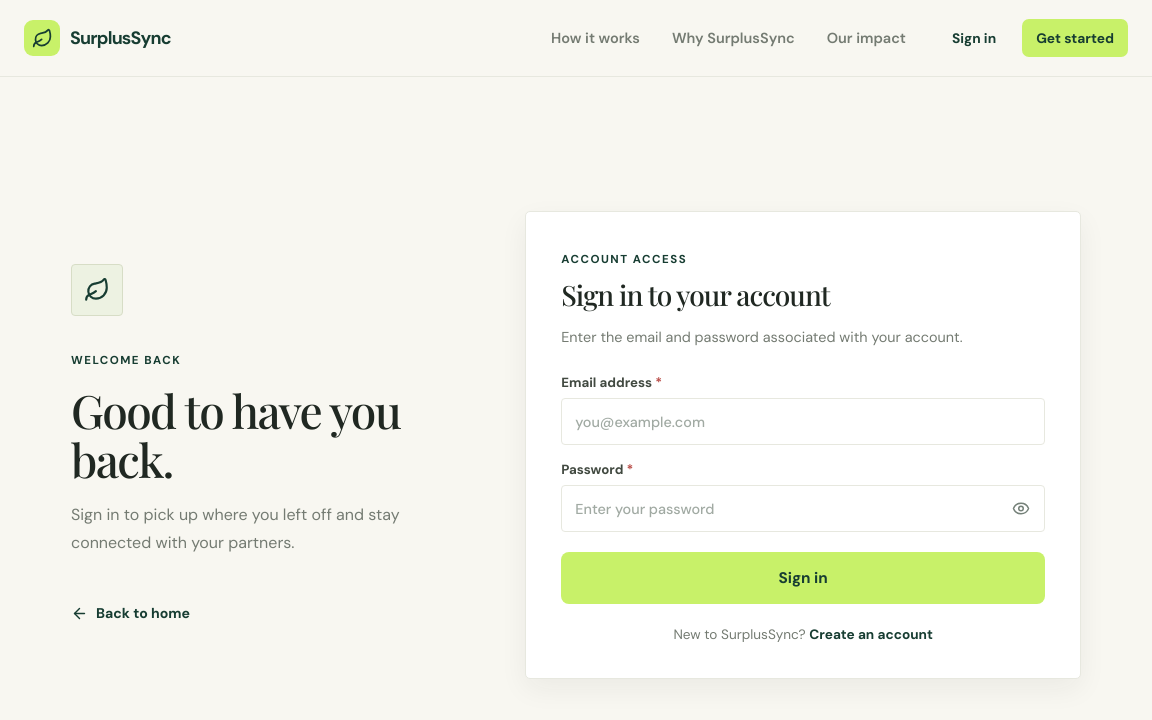
Test: authentication form › validates required fields before making a login request
What coordinates should you click on to do the following:
click the button "Sign in"
I would click on:
 (803, 578)
Its box is [561,552,1045,604].
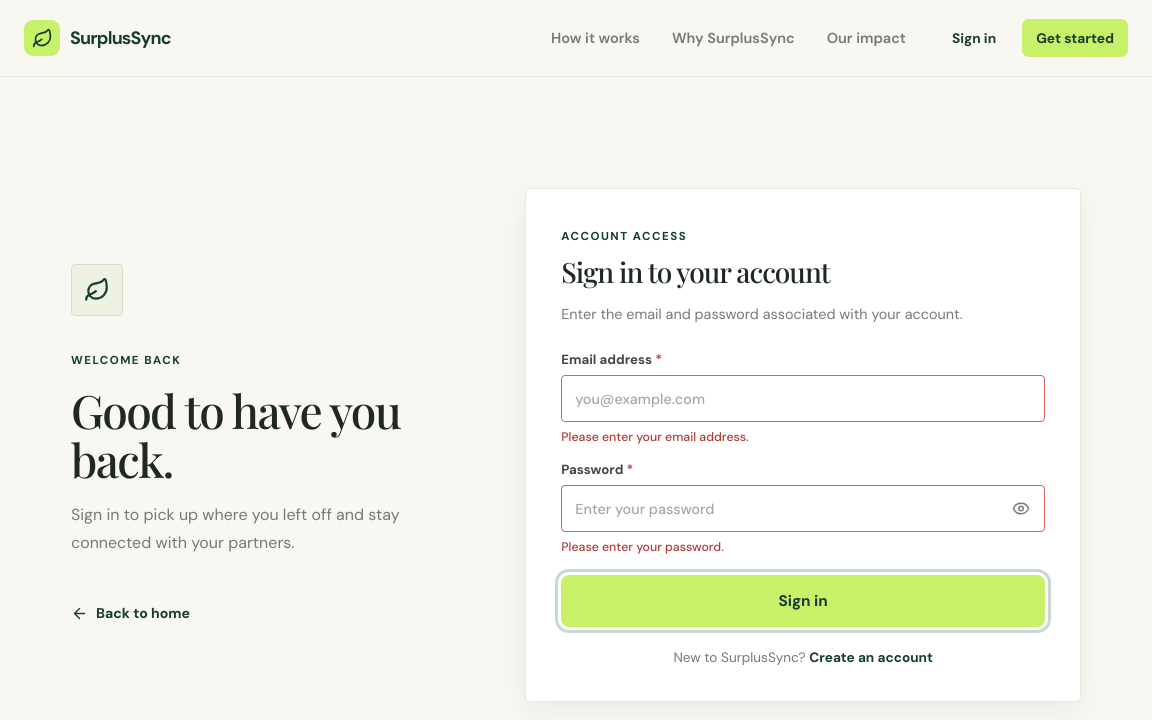
Now the text "Please enter your email address." is shown, box [561,429,749,445]
Now the text "Please enter your password." is shown, box [561,539,724,555]
